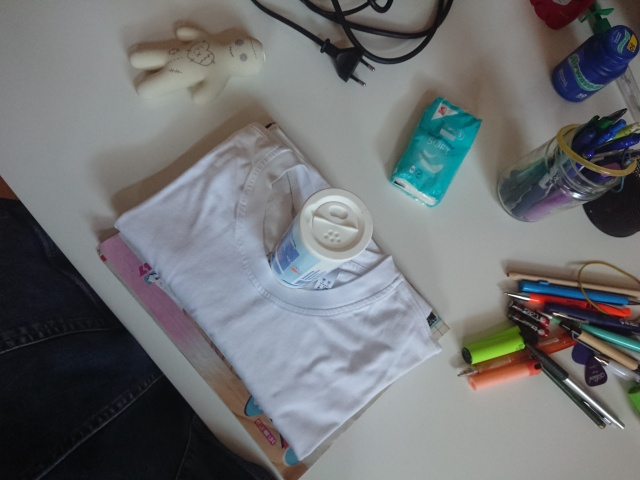Solana Pag Fine Sea Salt 250g: (267, 185, 375, 291)
